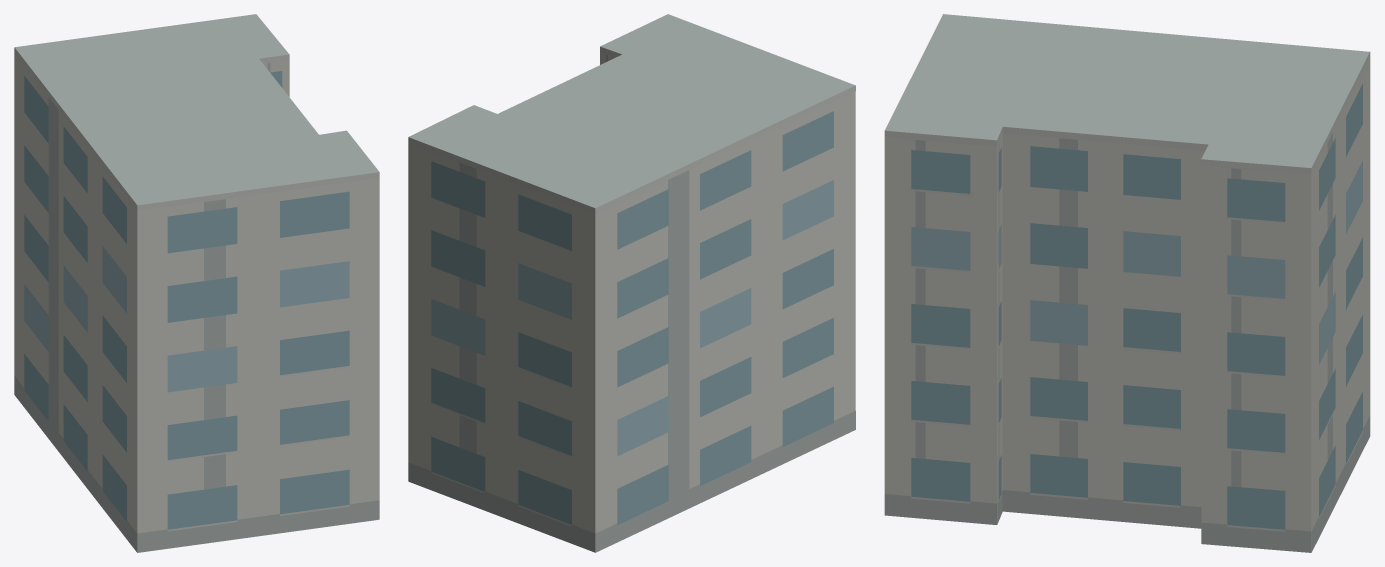
The model's file is survey-upis-32609329.glb.
The picture shows the model from 3 angles, left to right: view 1: azimuth 30°, elevation 25°; view 2: azimuth 150°, elevation 25°; view 3: azimuth 270°, elevation 25°; orthographic projection. The views are drawn at different scales.
Parts seen in each view (by area): view 1: survey-upis-32609329.tmp; view 2: survey-upis-32609329.tmp; view 3: survey-upis-32609329.tmp.
Part boxes in pixels (x1,y1,x2,y2): survey-upis-32609329.tmp: [14, 14, 379, 552]; survey-upis-32609329.tmp: [408, 14, 855, 552]; survey-upis-32609329.tmp: [884, 14, 1370, 552].
Bounding box in the file's own units: 12.34 × 14.35 × 16.43.
